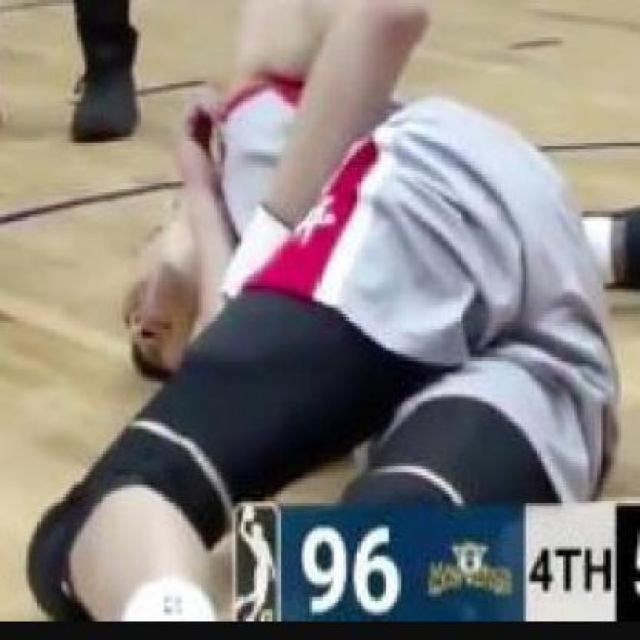fall: (26, 13, 614, 609)
